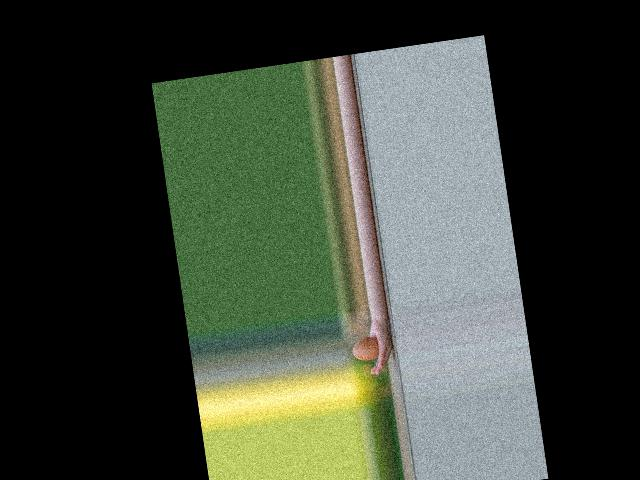egg: (350, 334, 380, 361)
